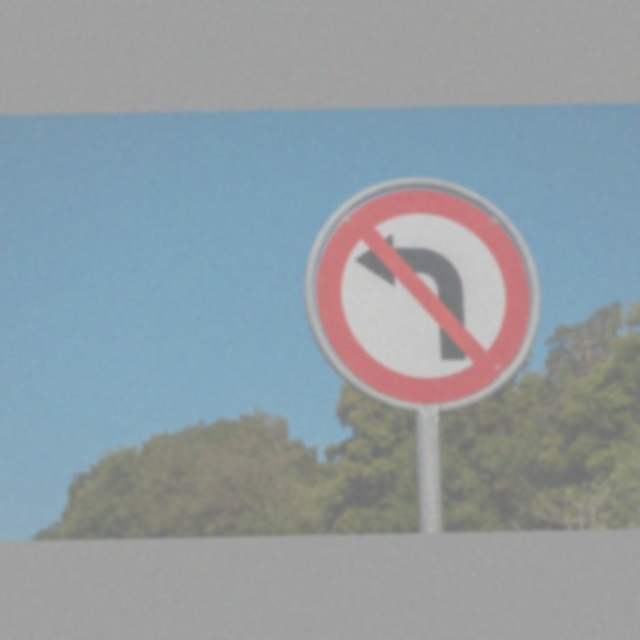Left_Turn_Prohibited: (304, 184, 543, 409)
